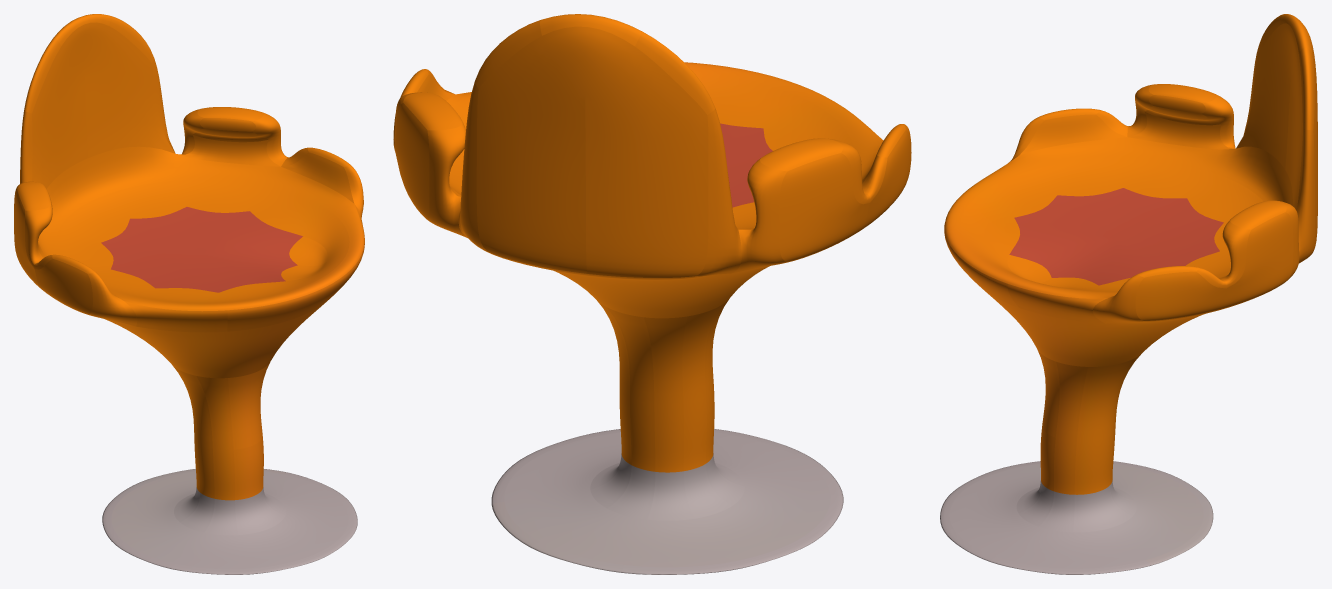
File: Chair3.fbx
3 views of the same model, side by side, from view 1: azimuth 30°, elevation 25°; view 2: azimuth 150°, elevation 25°; view 3: azimuth 270°, elevation 25° (orthographic). The views are drawn at different scales.
Visible parts, largest first — view 1: Stuhl3; view 2: Stuhl3; view 3: Stuhl3.
Boxes of the visible parts, x1,y1,x2,y2 form: Stuhl3: (14, 14, 364, 574); Stuhl3: (393, 14, 911, 574); Stuhl3: (940, 14, 1317, 574).
Size of the model in its own units: 69.44 by 90.03 by 65.04.
